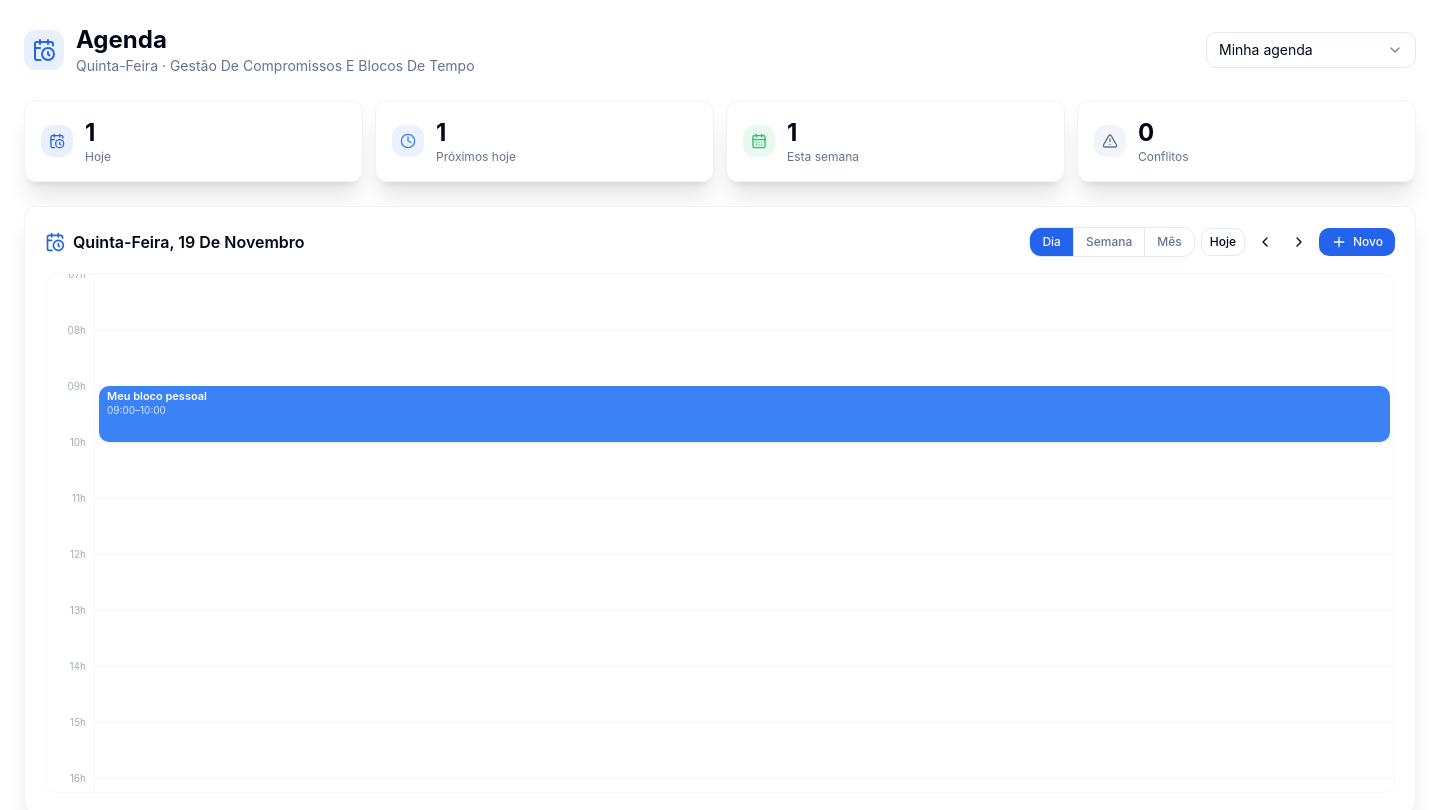
Scenario: AgendaPage — collaborator calendar (MGR-03, MGR-11) › replaces the source with the selected collaborator and drops the personal rows
The width and height of the screenshot is (1440, 810).
expect the text "Meu bloco pessoal" is shown: met, box [107, 390, 207, 404]
Press the mouse on the dropdown named "Colaborador" at (1311, 50), box [1206, 32, 1416, 68]
Click the dropdown named "Colaborador" at (1311, 50), box [1206, 32, 1416, 68]
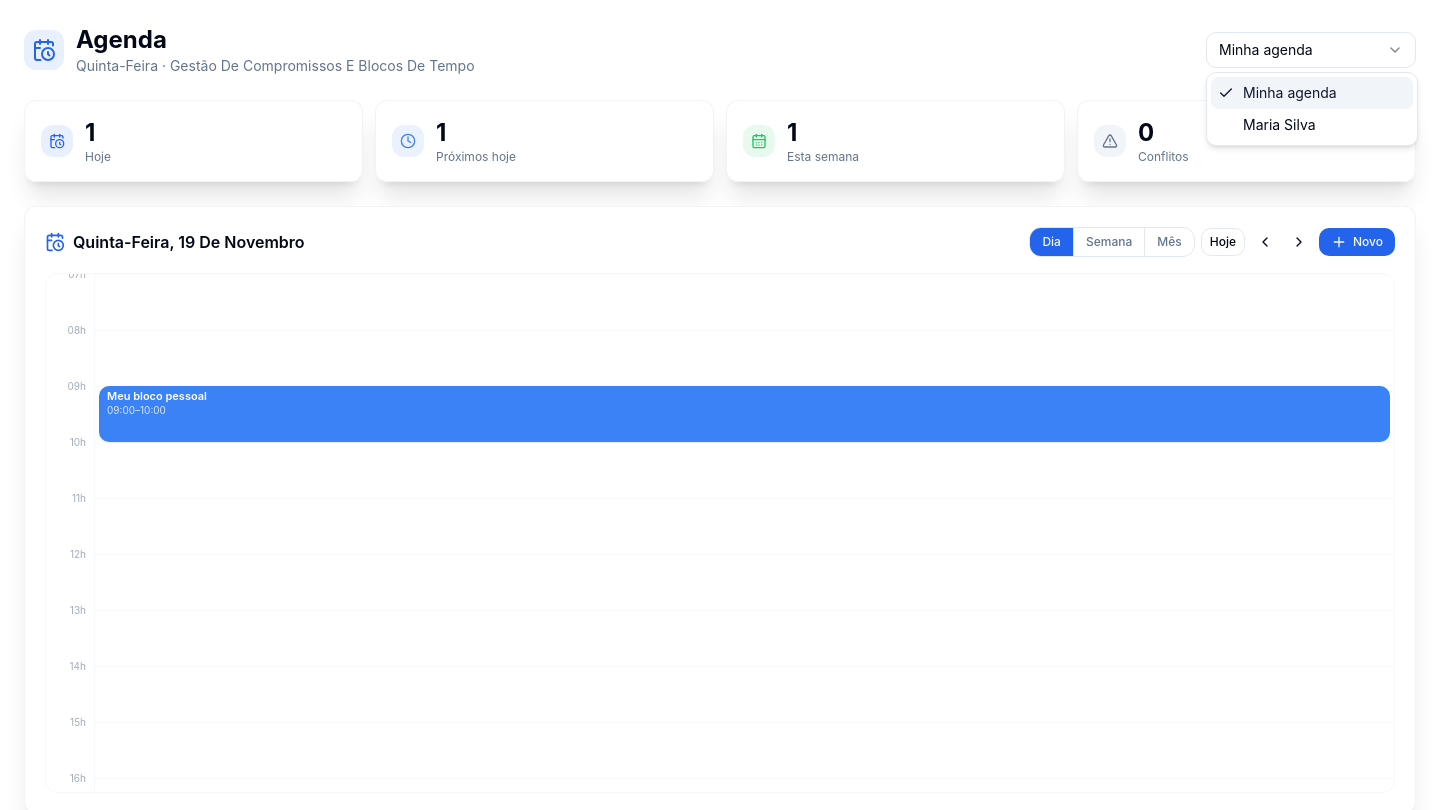
Click the option "Maria Silva" at (1279, 124), box [1243, 116, 1316, 133]
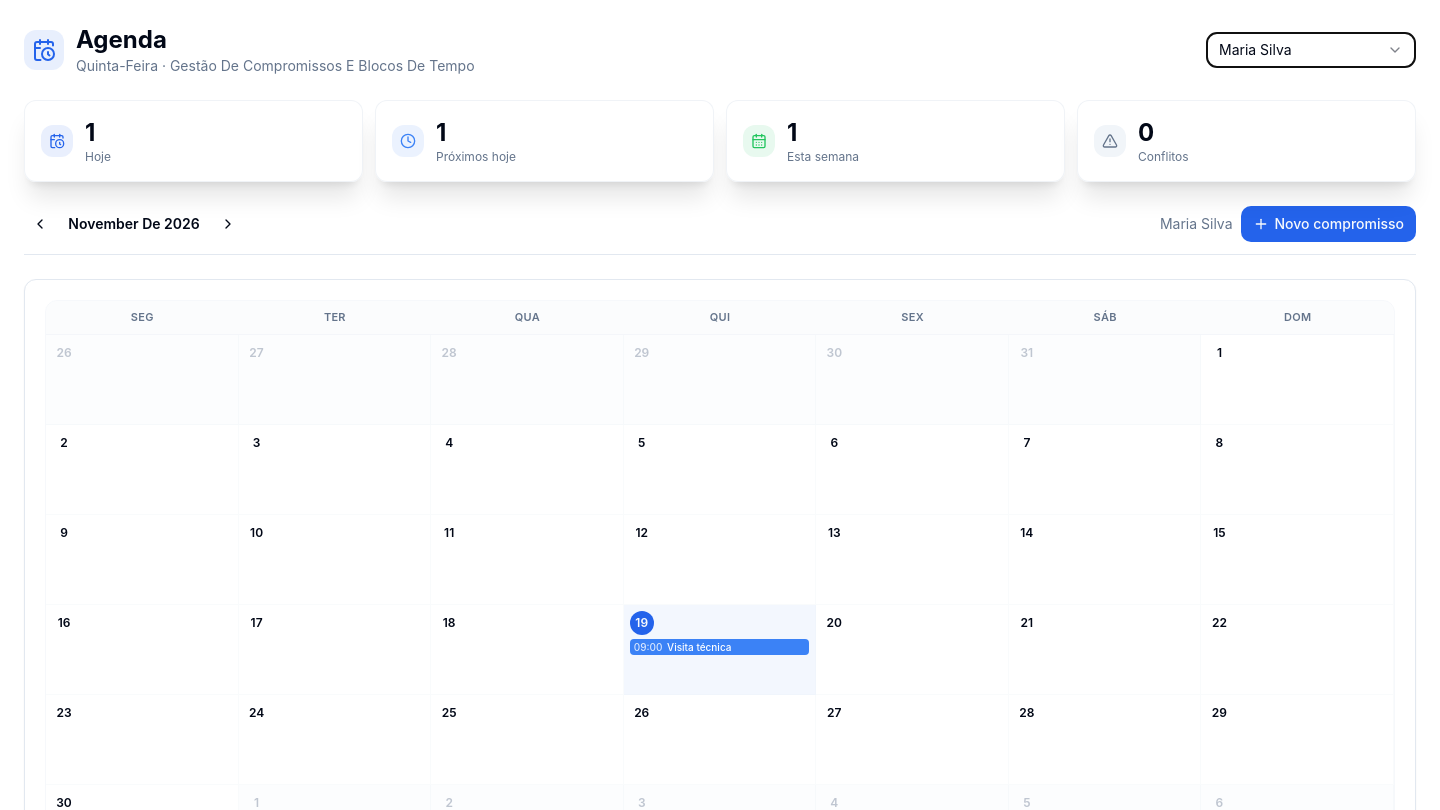
expect the button "Novo compromisso" is shown: met, box [1240, 206, 1416, 242]
expect the text "Visita técnica" is shown: met, box [667, 640, 732, 652]
expect the text "Meu bloco pessoal" is gone: met
